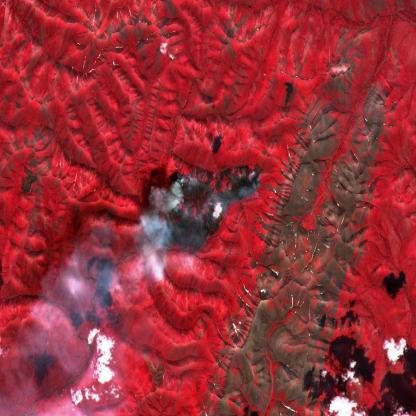fire: (143, 161, 263, 259)
